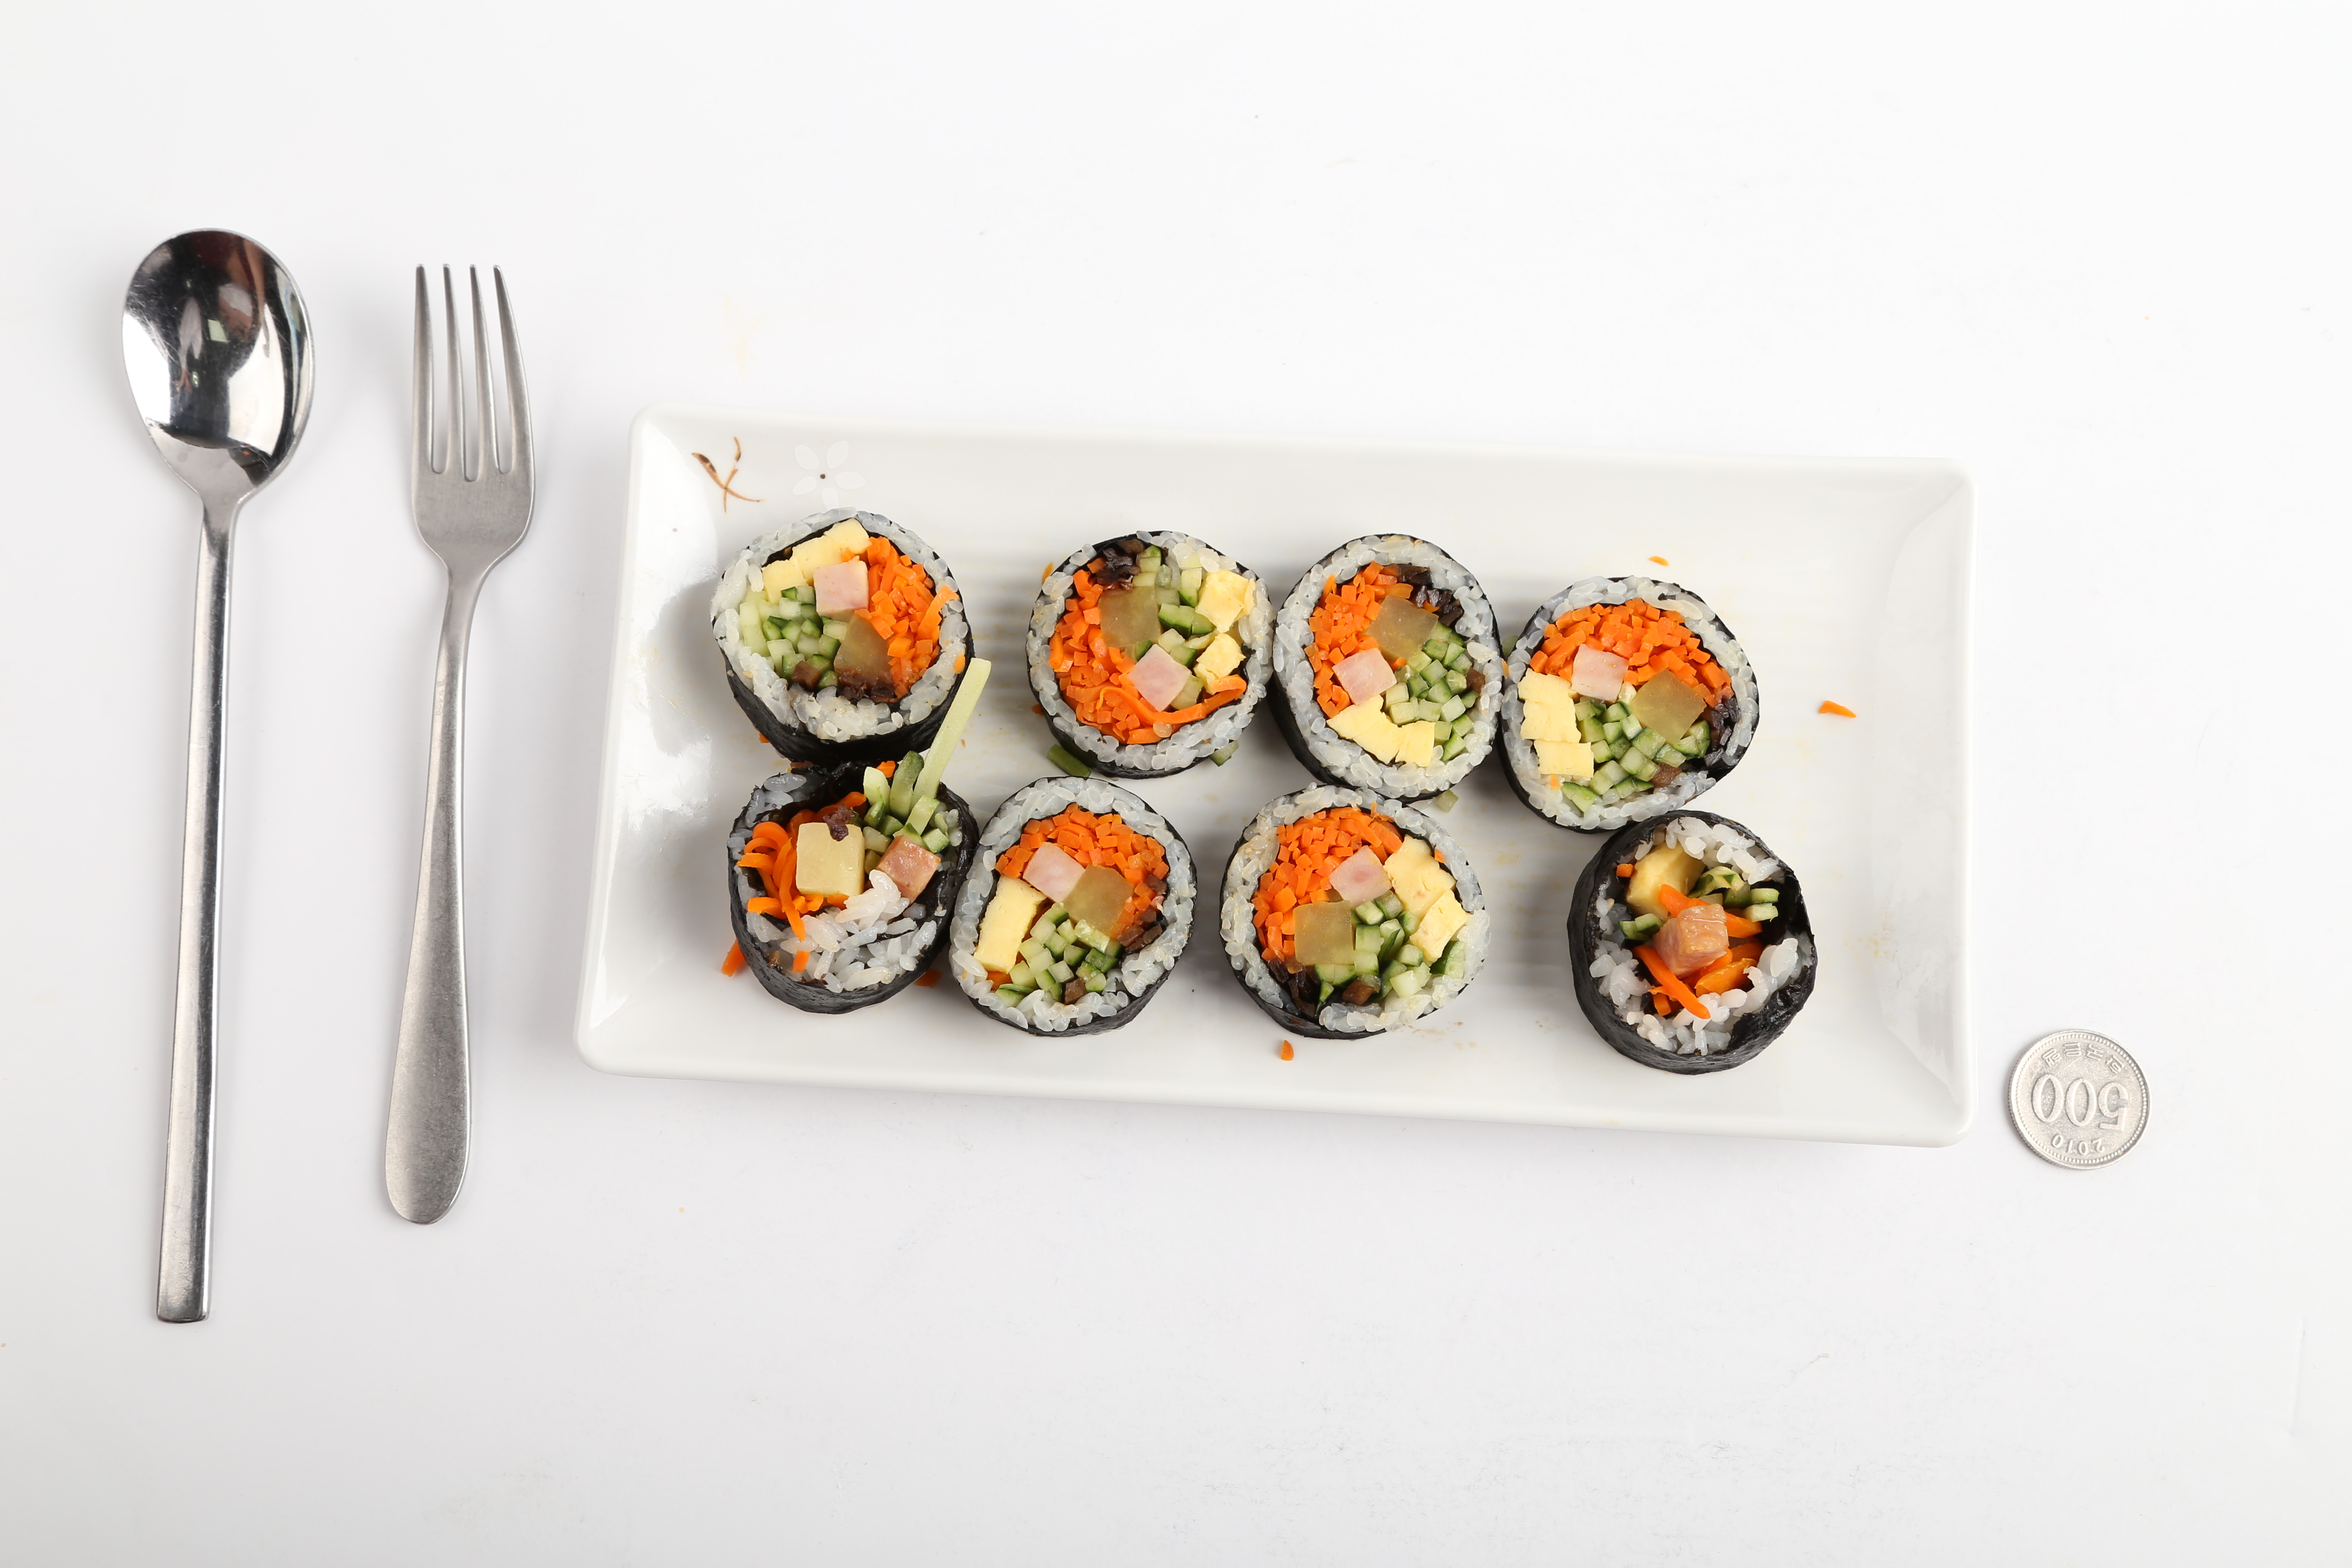dish: (600, 399, 1976, 1148)
ref_coin: (2004, 1024, 2154, 1176)
ref_fork: (404, 254, 541, 605)
ref_spoon: (115, 222, 320, 558)
김밥: (700, 499, 1818, 1078)
